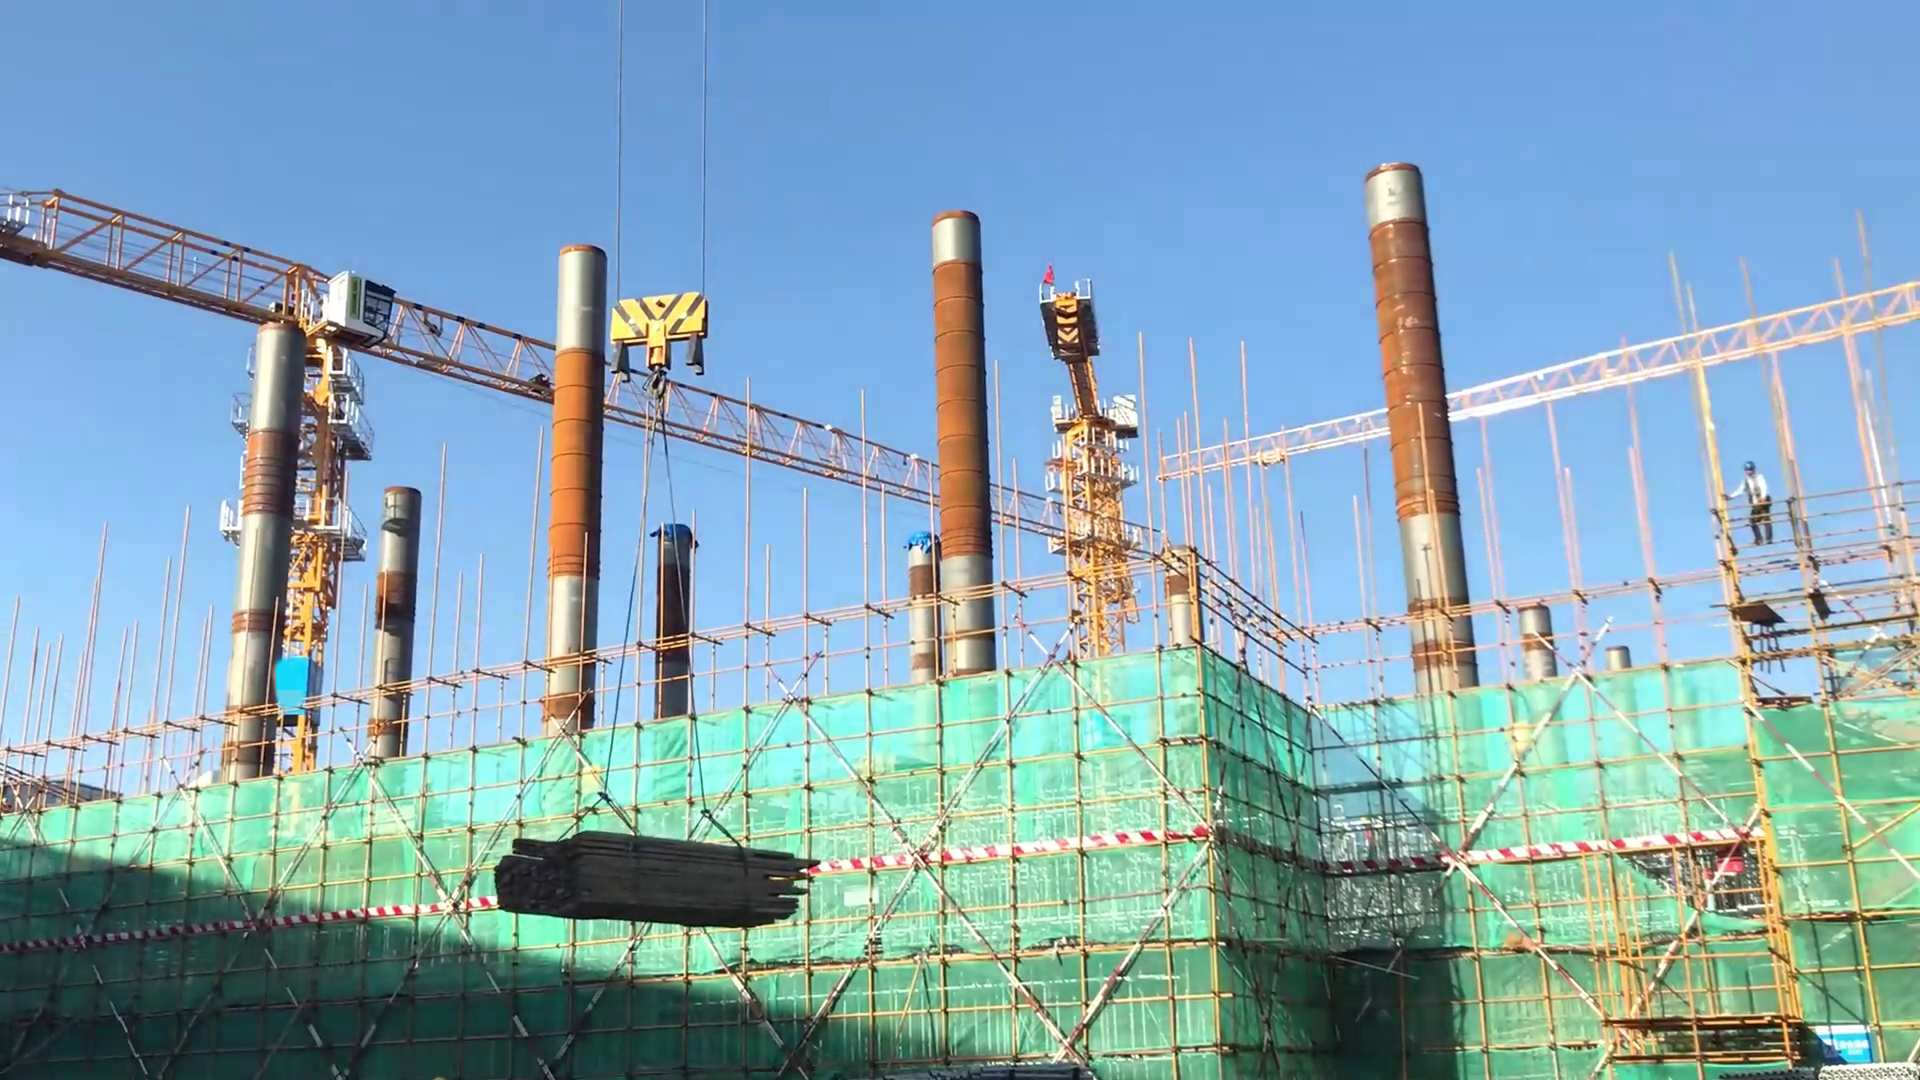helmet: (1729, 458, 1762, 480)
hook: (607, 285, 711, 374)
person: (1719, 454, 1783, 549)
vest: (1740, 476, 1770, 508)
wood: (493, 826, 814, 923)
